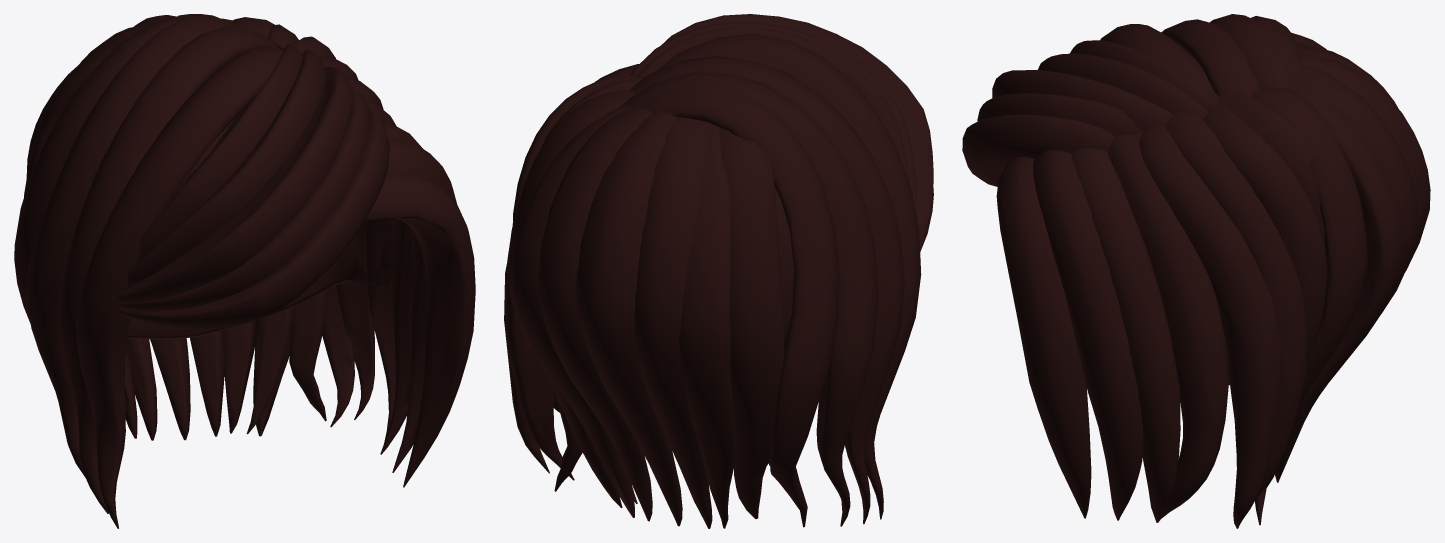
The model's file is hair-2-1bedde6d.glb.
3 renders of one model, left to right at view 1: azimuth 30°, elevation 25°; view 2: azimuth 150°, elevation 25°; view 3: azimuth 270°, elevation 25°, orthographic. The views are drawn at different scales.
Visible parts, largest first — view 1: hair_2.001; view 2: hair_2.001; view 3: hair_2.001.
Part boxes in pixels (box(x1,y1,x2,y2)): hair_2.001: box(14, 14, 475, 528); hair_2.001: box(504, 14, 933, 528); hair_2.001: box(962, 14, 1430, 528).
Bounding box in the file's own units: 2.01 × 2.36 × 2.31.
